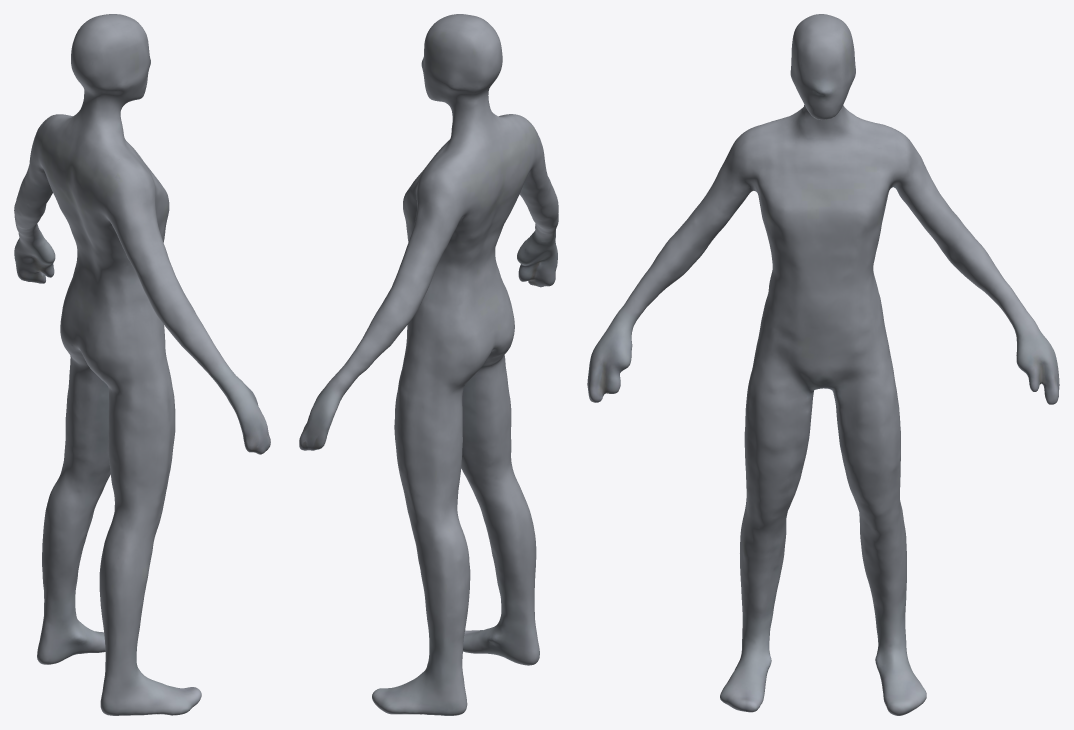
File: 42d818f77fed_human__3d_asset_0_g.fbx
3 renders of one model, left to right at view 1: azimuth 30°, elevation 25°; view 2: azimuth 150°, elevation 25°; view 3: azimuth 270°, elevation 25°, orthographic.
Parts seen in each view (by area): view 1: high_poly; view 2: high_poly; view 3: high_poly.
Part boxes in pixels (x1=…): high_poly: x1=14, y1=14, x2=270, y2=715; high_poly: x1=299, y1=14, x2=558, y2=715; high_poly: x1=587, y1=14, x2=1059, y2=715.
Size of the model in its own units: 14.89 by 100 by 63.43.
